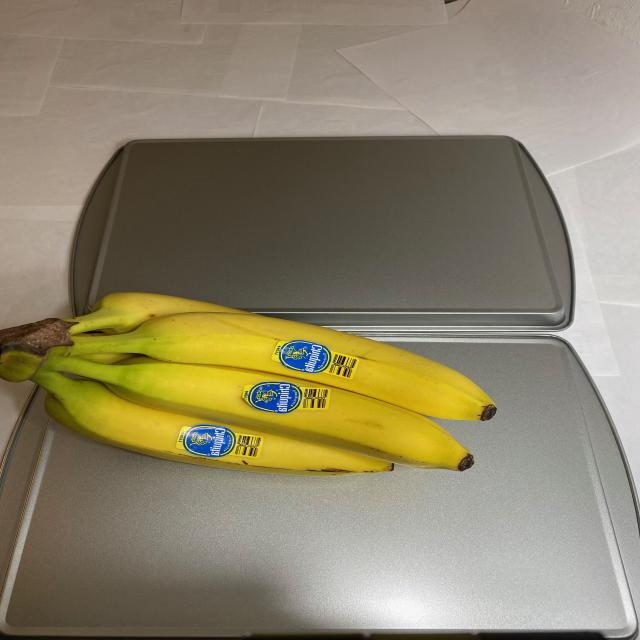banana: (14, 288, 500, 500)
